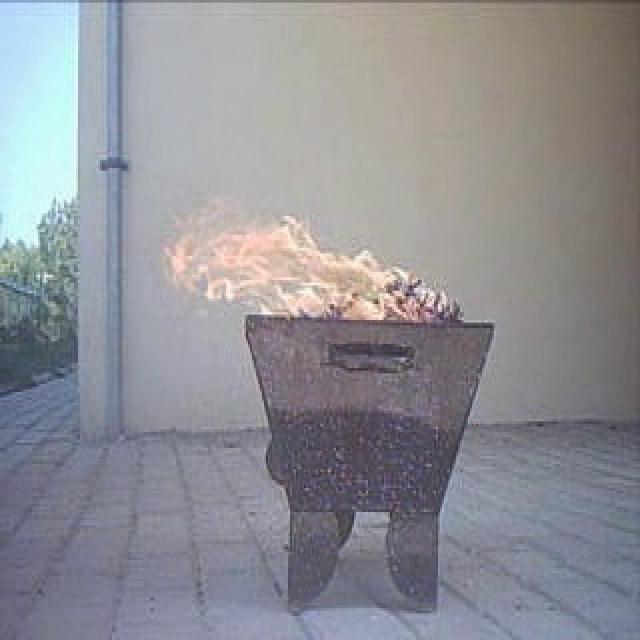fire: (166, 202, 444, 323)
